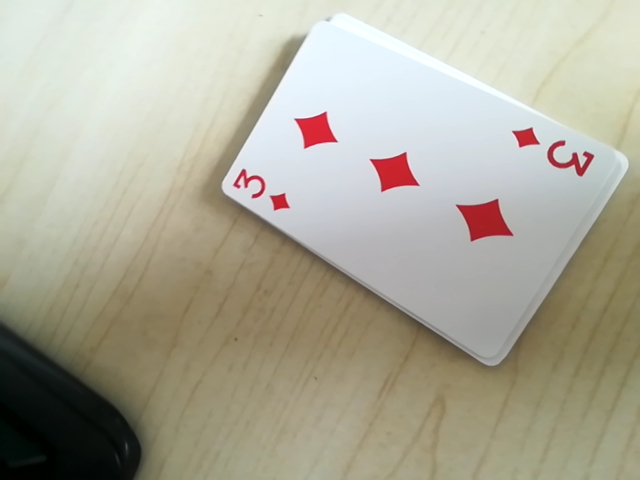fk 3: (506, 125, 599, 179), (224, 165, 291, 216)
